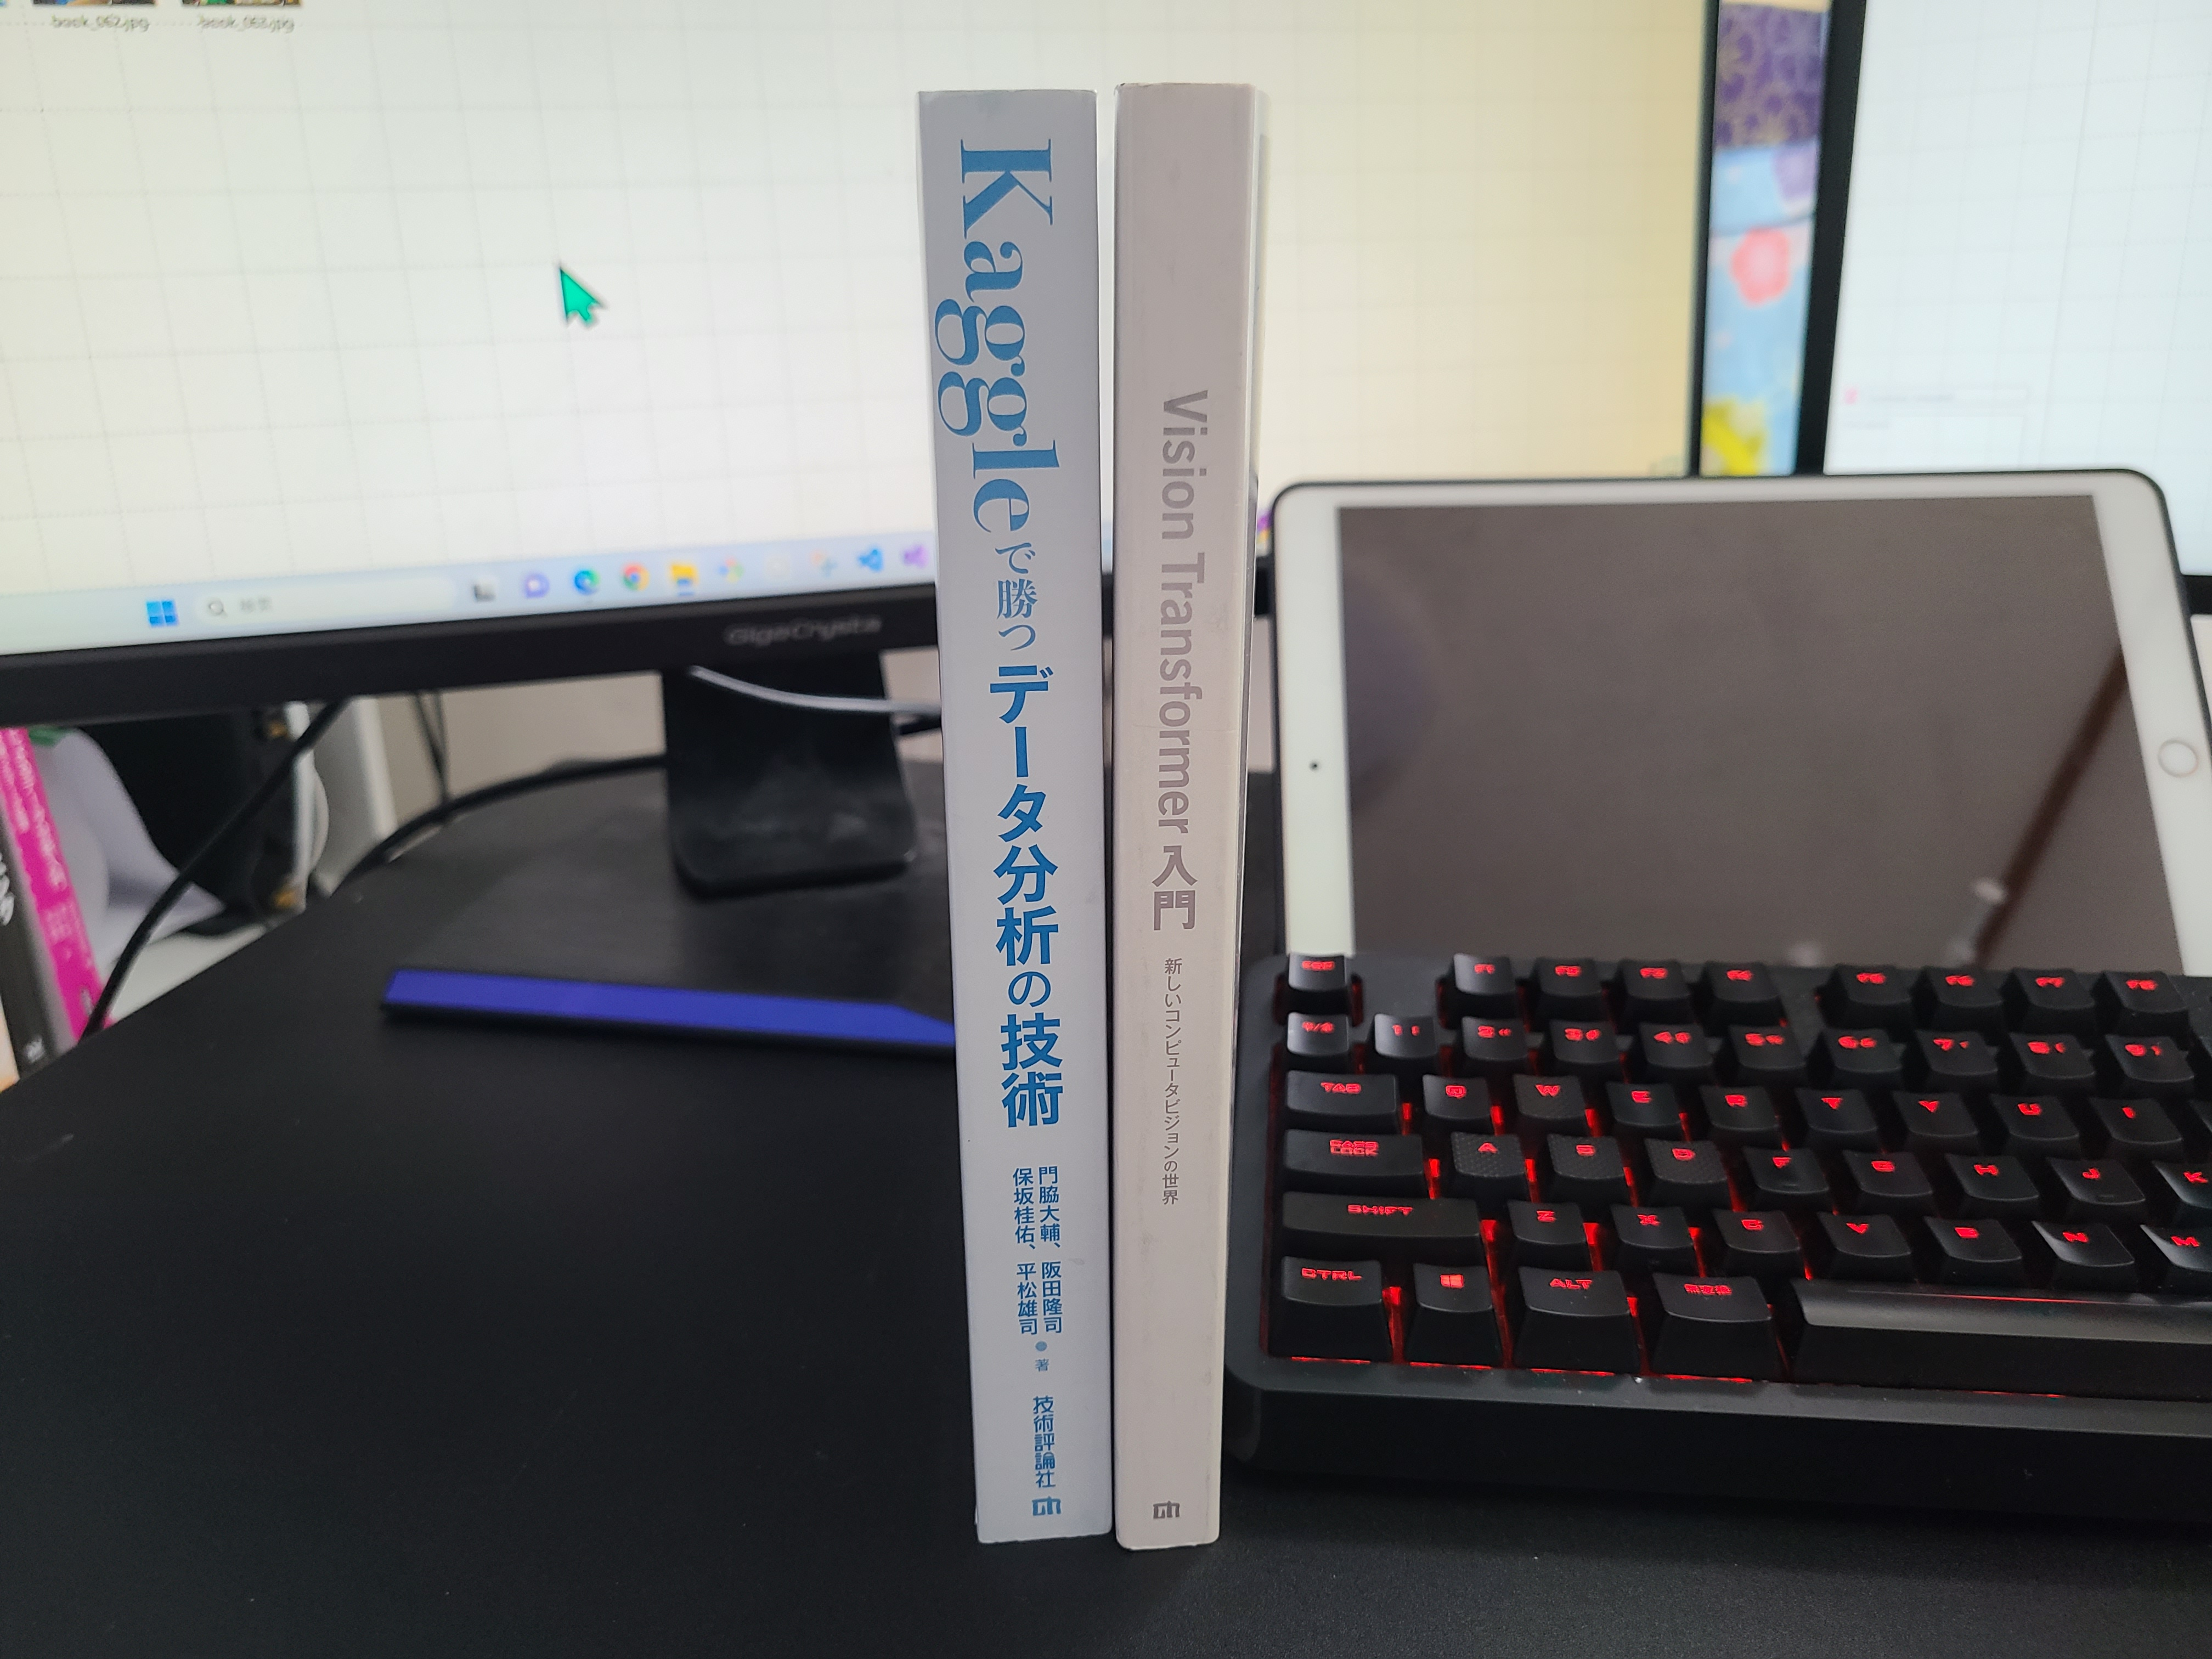book: (911, 80, 1123, 1556), (1108, 75, 1254, 1560)
